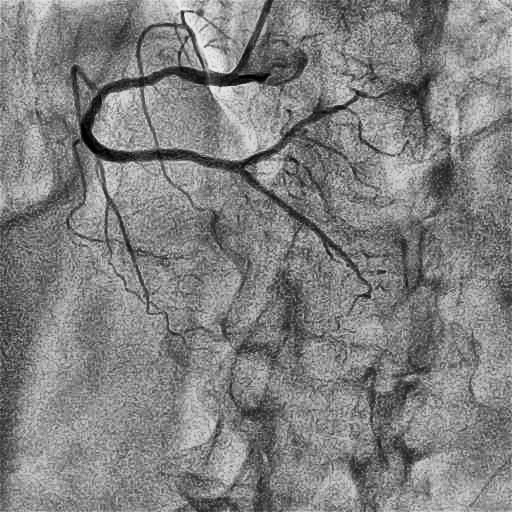pborca: (241, 98, 355, 167)
pda: (239, 168, 372, 291)
rca: (80, 66, 242, 172)
